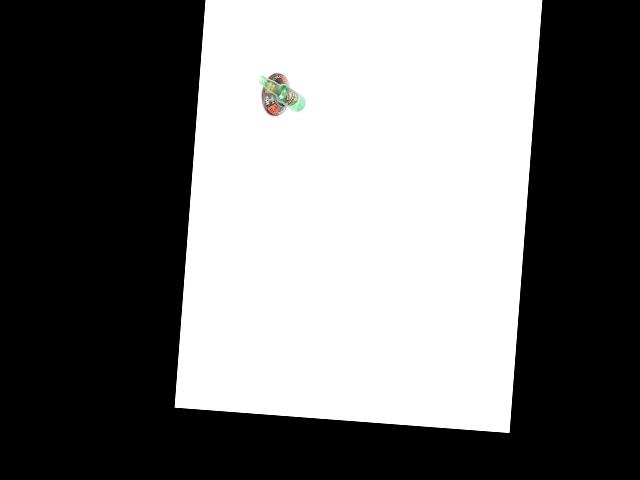beer: (256, 76, 306, 113)
